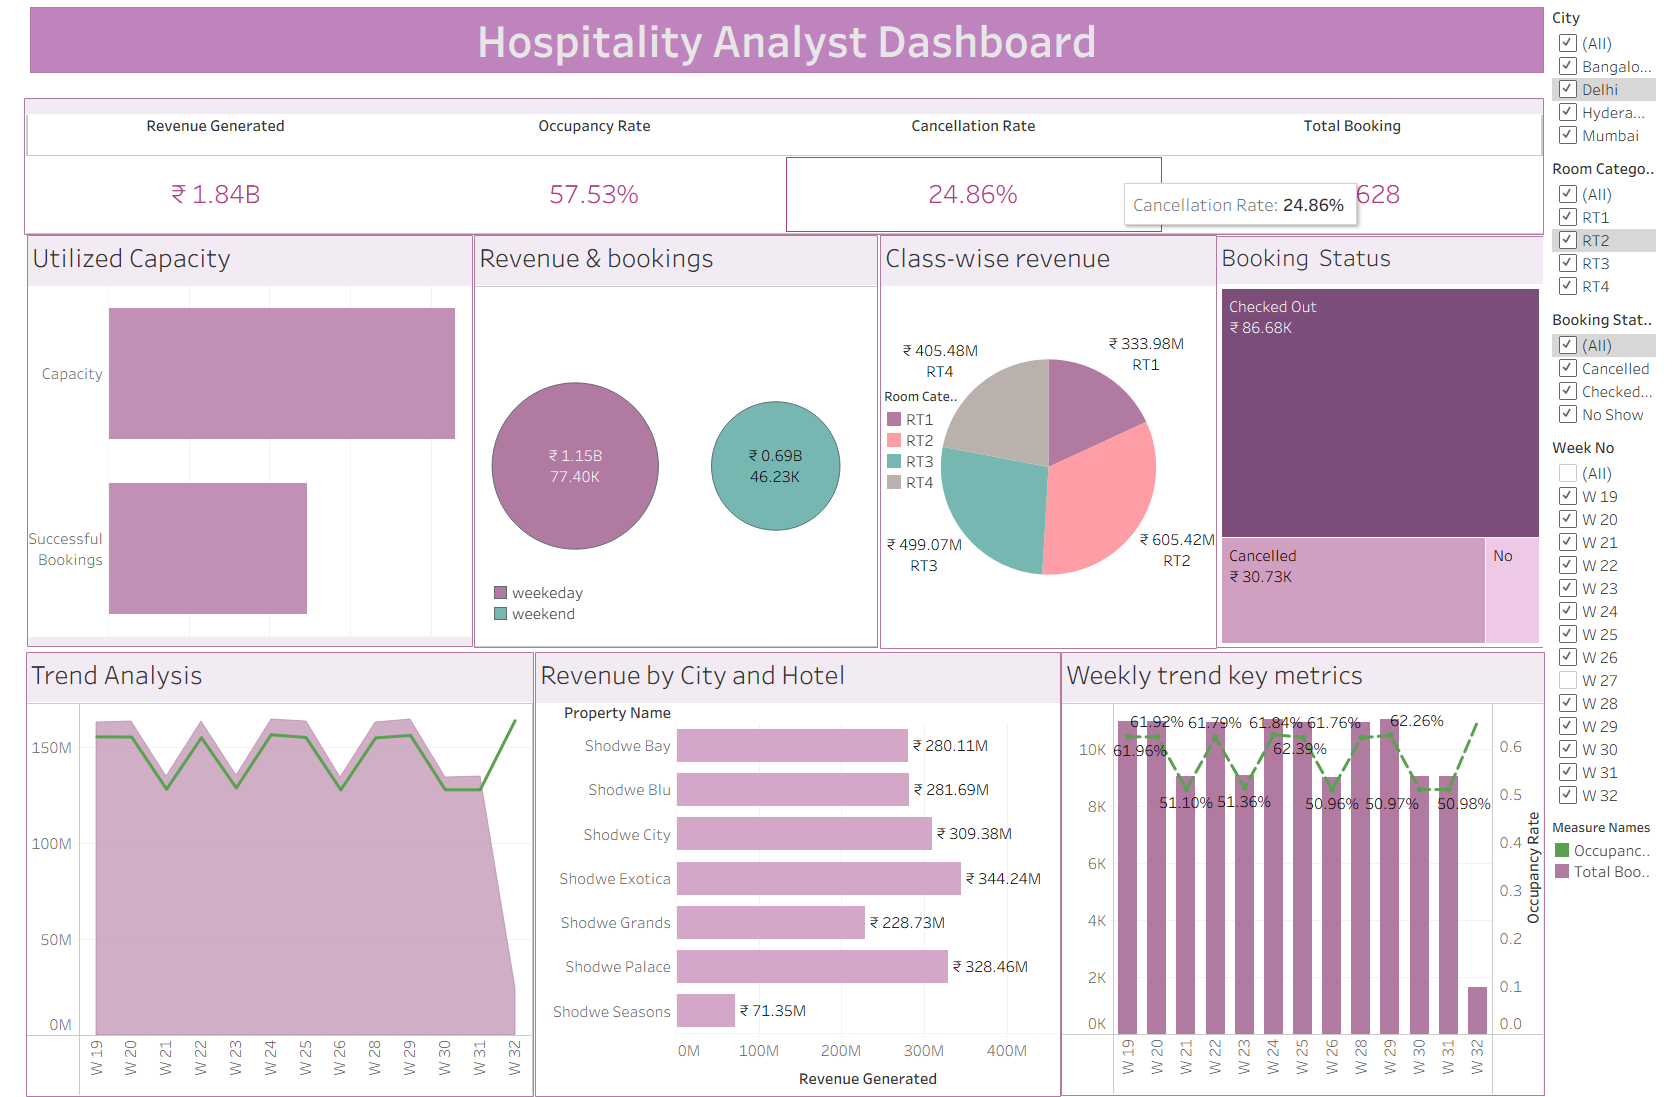

What the dashboard file says about the page in this screenshot:
{"tool":"tableau","page":{"name":"Dashboard 1","canvas":[1000,1000],"units":"permille","ordinal":0},"visuals":[{"type":"text","box":[4.9,8.8,922,81.8]},{"type":"filter","title":"Revenue by State and Hotel","param":"[federated.0isxcyk0ii92bp143nlhl18z355o].[none:city:nk]","box":[926.9,8.8,68.2,166.8]},{"type":"worksheet","title":"KPI","mark":"Automatic","box":[3.7,92.8,921.4,122.7]},{"type":"filter","title":"Class-wise revenue","param":"[federated.0isxcyk0ii92bp143nlhl18z355o].[none:room_category:nk]","box":[926.9,175.7,68.2,166.8]},{"type":"worksheet","title":"Utilized Capacity","mark":"Automatic","box":[5.5,215.5,270.6,370.2]},{"type":"worksheet","title":"Revenue & bookings","mark":"Pie","cols":["day_type"],"box":[276.7,215.5,245,371.3]},{"type":"worksheet","title":"Class-wise revenue","mark":"Pie","box":[522.2,215.5,204.1,372.4]},{"type":"worksheet","title":"checked out/cencel/No show","mark":"Automatic","box":[725.8,216.6,198.7,370.2]},{"type":"filter","title":"checked out/cencel/No show","param":"[federated.0isxcyk0ii92bp143nlhl18z355o].[none:booking_status:nk]","box":[926.9,342.5,68.2,141.4]},{"type":"legend","title":"Class-wise revenue","param":"[federated.0isxcyk0ii92bp143nlhl18z355o].[none:room_category:nk]","box":[524.7,352.5,46.9,122.7]},{"type":"filter","title":"Weekly trend key metrics","param":"[federated.0isxcyk0ii92bp143nlhl18z355o].[none:week no:nk]","box":[926.9,484,68.2,421]},{"type":"legend","title":"Revenue & bookings","param":"[federated.0isxcyk0ii92bp143nlhl18z355o].[none:day_type:nk]","box":[286.1,527.1,64.8,46.6]},{"type":"worksheet","title":"Weekly trend key metrics","mark":"Automatic","rows":["Calculation_673288190248730626","Calculation_673288190243160064"],"cols":["week no"],"box":[632.1,590,293.3,399.1]},{"type":"worksheet","title":"Trend Analysis","mark":"Automatic","rows":["revenue_generated","Calculation_673288190243160064"],"cols":["week no"],"box":[4.9,590.1,307.7,400]},{"type":"worksheet","title":"Revenue by State and Hotel","mark":"Automatic","rows":["property_name"],"cols":["revenue_generated"],"box":[313.2,590.1,318.7,400]},{"type":"legend","title":"Weekly trend key metrics","param":"[federated.0isxcyk0ii92bp143nlhl18z355o].[:Measure Names]","box":[926.9,905,68.2,79.6]}]}

Visuals, with their boxes on the dashboard's canvas, which has no fixed pixel size, in thousandths of its width and height (x1, y1, x2, y2). These are canvas units, not pixel positions in the 1679x1097 screenshot, which may show the page scaled, cropped or inside an application window:
text: <box>5,9,927,91</box>
"Revenue by State and Hotel" filter: <box>927,9,995,176</box>
"KPI" worksheet: <box>4,93,925,216</box>
"Class-wise revenue" filter: <box>927,176,995,342</box>
"Utilized Capacity" worksheet: <box>6,216,276,586</box>
"Revenue & bookings" worksheet (Pie marks): <box>277,216,522,587</box>
"Class-wise revenue" worksheet (Pie marks): <box>522,216,726,588</box>
"checked out/cencel/No show" worksheet: <box>726,217,924,587</box>
"checked out/cencel/No show" filter: <box>927,342,995,484</box>
"Class-wise revenue" legend: <box>525,352,572,475</box>
"Weekly trend key metrics" filter: <box>927,484,995,905</box>
"Revenue & bookings" legend: <box>286,527,351,574</box>
"Weekly trend key metrics" worksheet: <box>632,590,925,989</box>
"Trend Analysis" worksheet: <box>5,590,313,990</box>
"Revenue by State and Hotel" worksheet: <box>313,590,632,990</box>
"Weekly trend key metrics" legend: <box>927,905,995,985</box>
